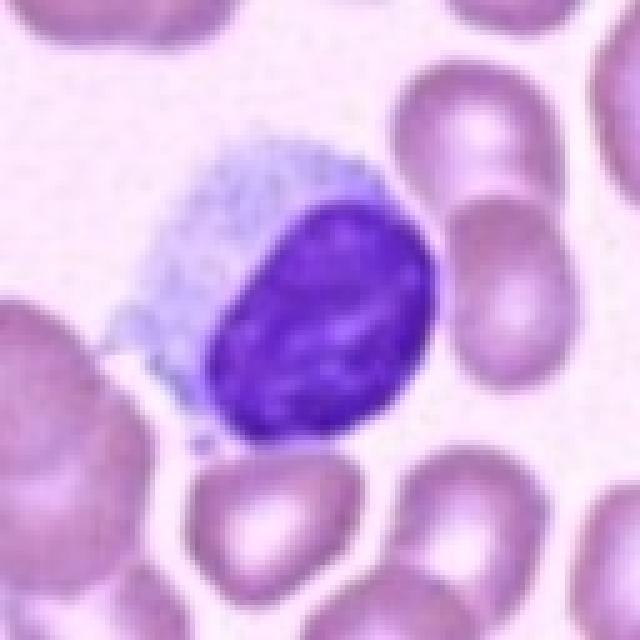lympho: (98, 129, 440, 457)
